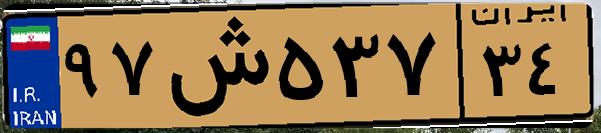3: (330, 28, 385, 110), (475, 38, 525, 113)
4: (525, 38, 570, 115)
5: (270, 28, 330, 110)
7: (385, 28, 445, 110), (110, 28, 158, 98)
9: (57, 26, 110, 100)
ش: (158, 12, 270, 120)
